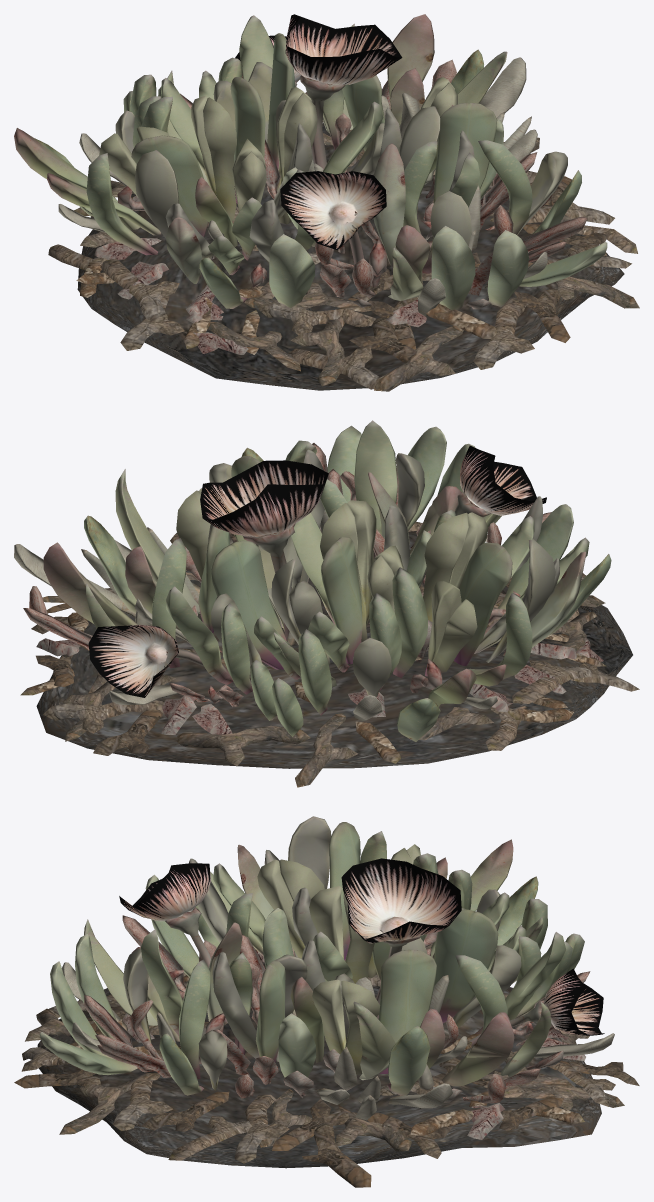
File: cheiridopsis_succulent_single_2.fbx
3 views of the same model, one above another, from view 1: azimuth 30°, elevation 25°; view 2: azimuth 150°, elevation 25°; view 3: azimuth 270°, elevation 25° (orthographic). The views are drawn at different scales.
Parts seen in each view (by area): view 1: cheiridopsis_succulent_single_2; view 2: cheiridopsis_succulent_single_2; view 3: cheiridopsis_succulent_single_2.
Part boxes in pixels (left/top/right/bottom): cheiridopsis_succulent_single_2: left=14, top=14, right=639, bottom=391; cheiridopsis_succulent_single_2: left=14, top=420, right=639, bottom=787; cheiridopsis_succulent_single_2: left=14, top=816, right=639, bottom=1187.
Bounding box in the file's own units: 0.5106 × 0.2 × 0.5487.
1 material, 1 textured.
